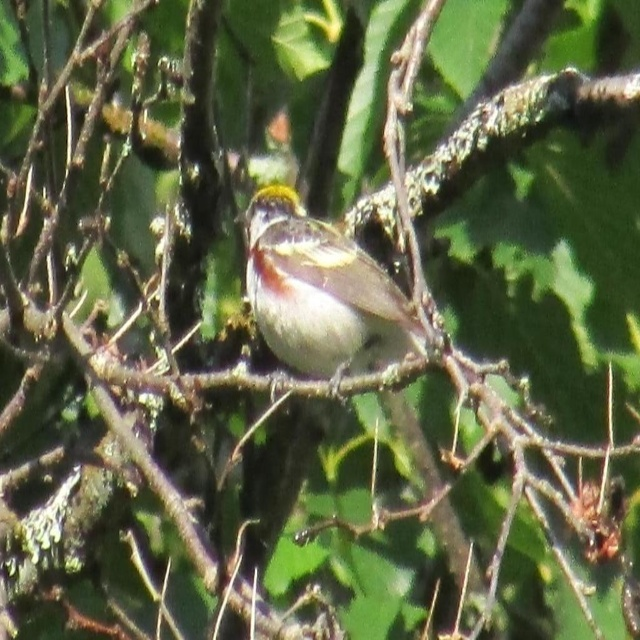Sparrow: (241, 190, 435, 426)
